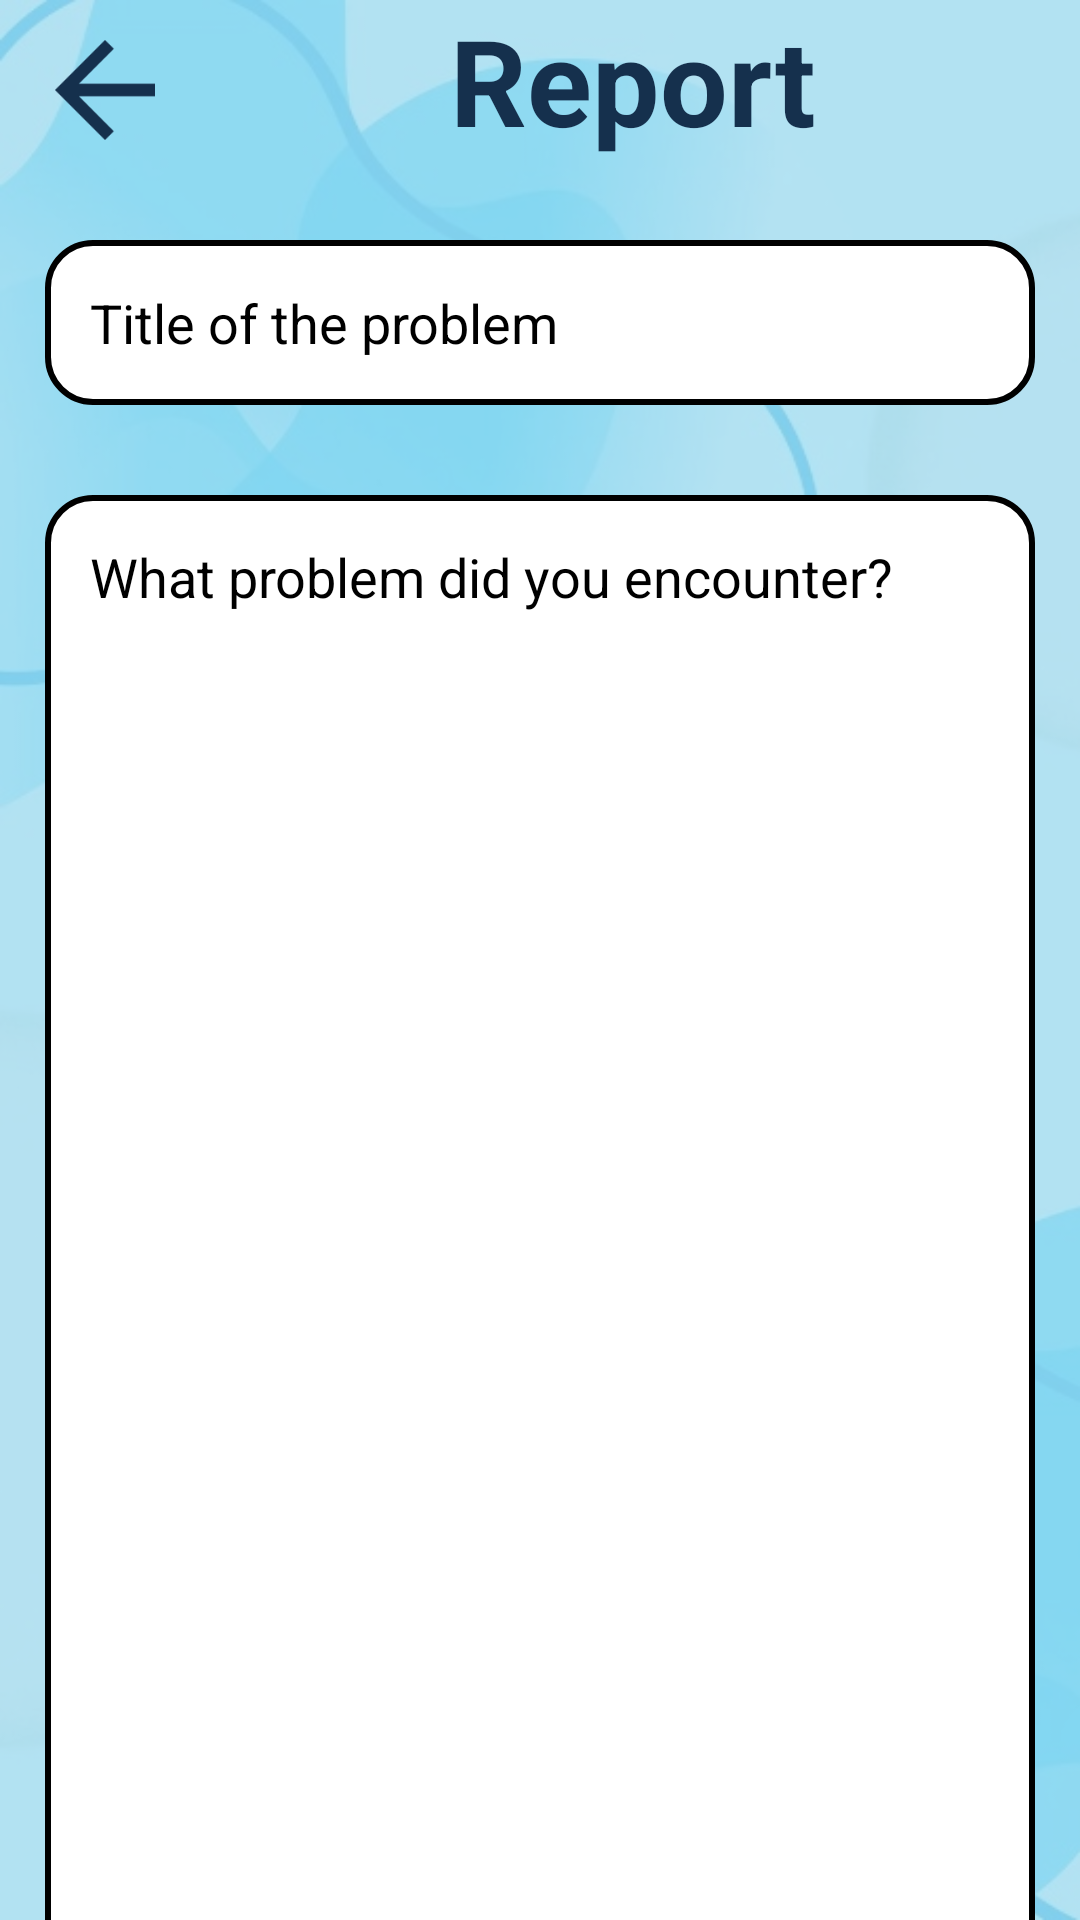

Icons on this 1080px×1920px Android screen, each with its box as (x1, y1, x2, y2):
arrow back: (0, 15, 155, 165)
